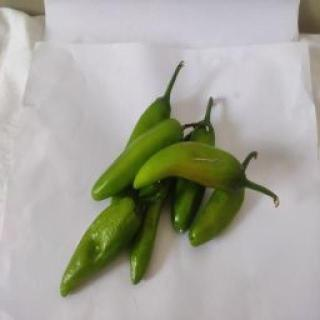Cabai Hijau: (133, 141, 283, 209), (60, 196, 145, 304)
